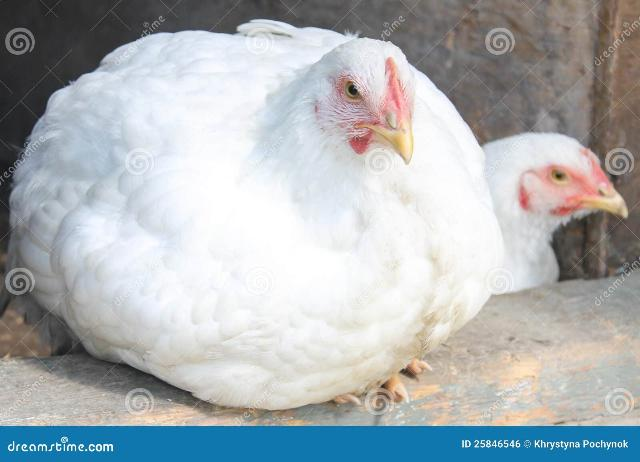Chicken: (9, 19, 506, 412), (482, 132, 631, 296)
